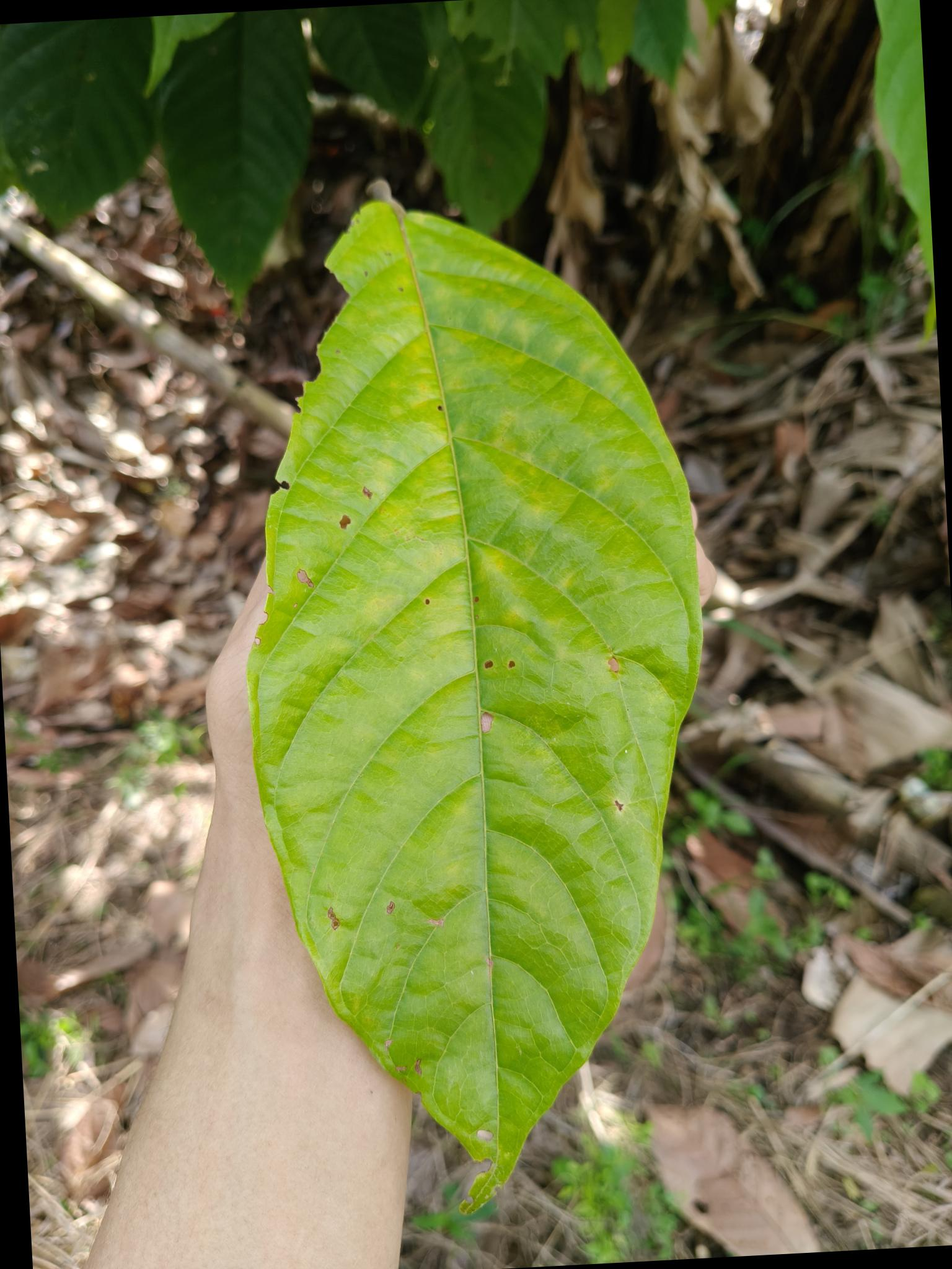Fosforo: (250, 206, 690, 1190)
